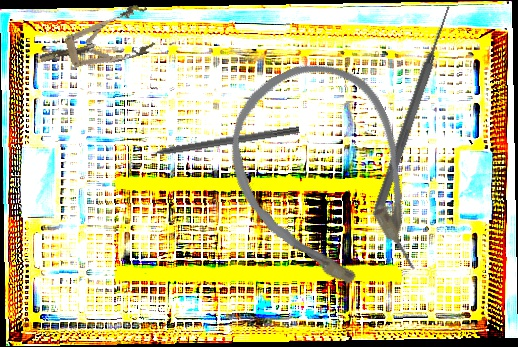Cannula: (203, 39, 453, 323)
Hook Surgical: (134, 124, 300, 160)
Pusher: (371, 4, 456, 214)
Speculum: (33, 1, 159, 83)
